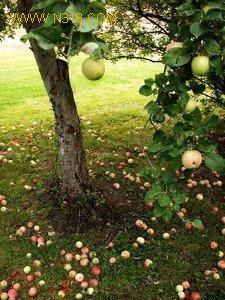apple: (81, 57, 104, 80), (181, 149, 201, 169), (191, 56, 210, 75)
